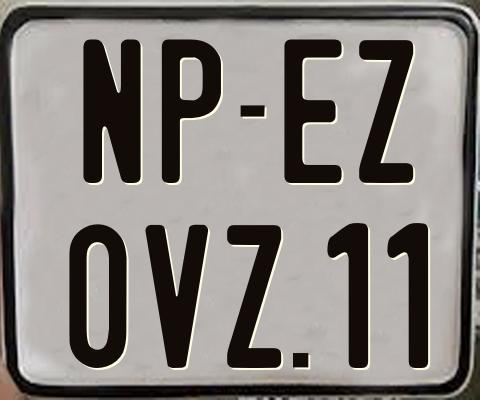0: (69, 224, 131, 369)
1: (325, 222, 367, 367), (385, 223, 426, 369)
E: (281, 37, 345, 182)
N: (80, 36, 140, 185)
P: (160, 38, 219, 185)
V: (142, 224, 207, 368)
Z: (224, 224, 280, 372), (358, 37, 412, 182)
